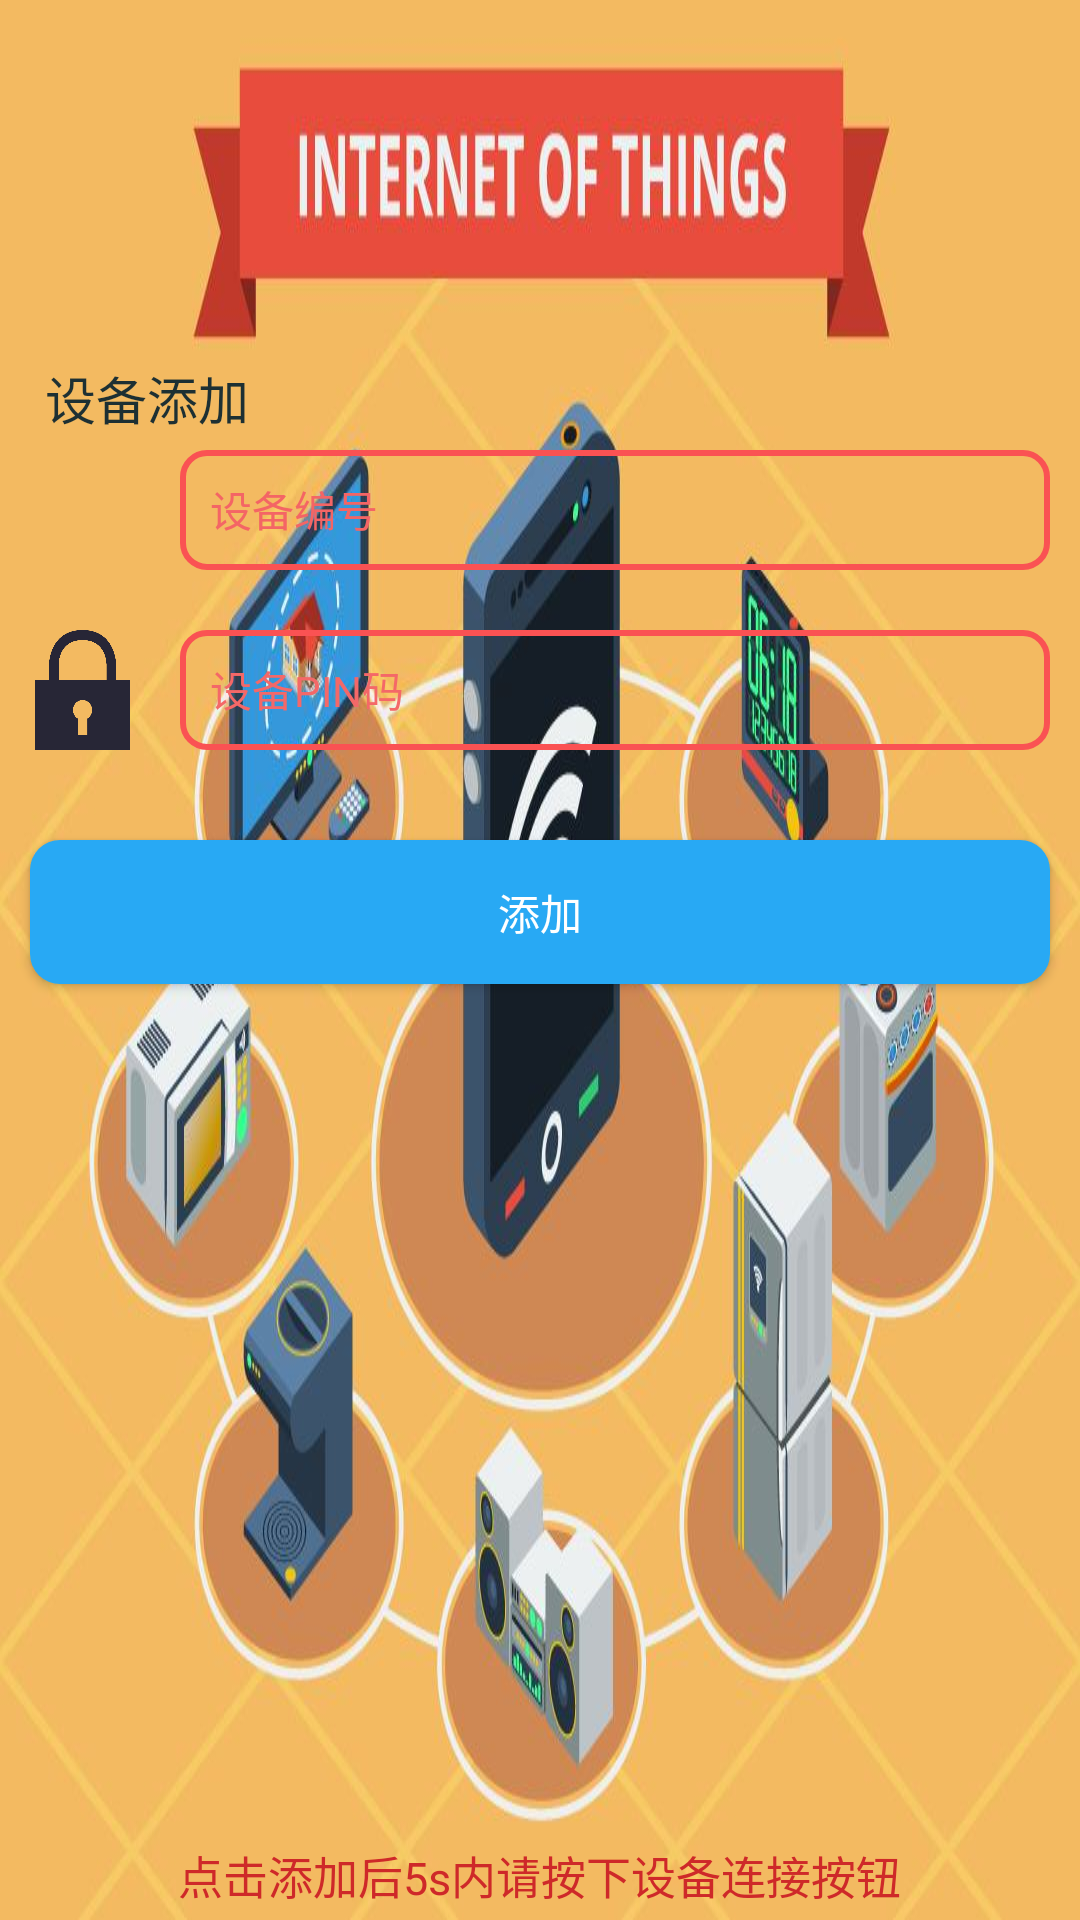

Icons on this 1080*1920 Android screen, each with its box as BBox(x1, y1, x2, y2):
userpassword: BBox(35, 630, 130, 750)
